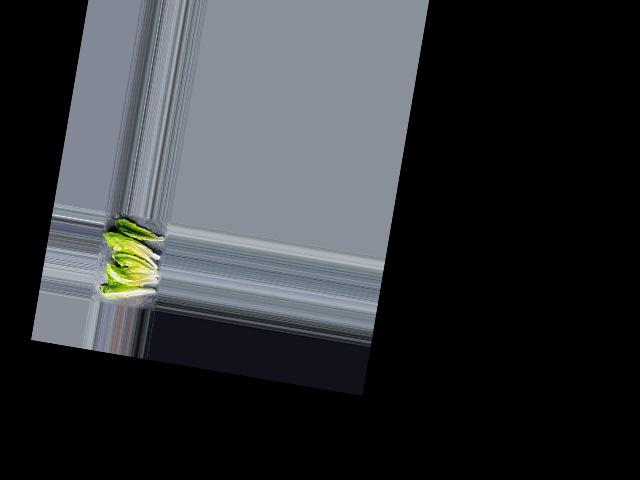lettuce: (113, 219, 168, 245)
